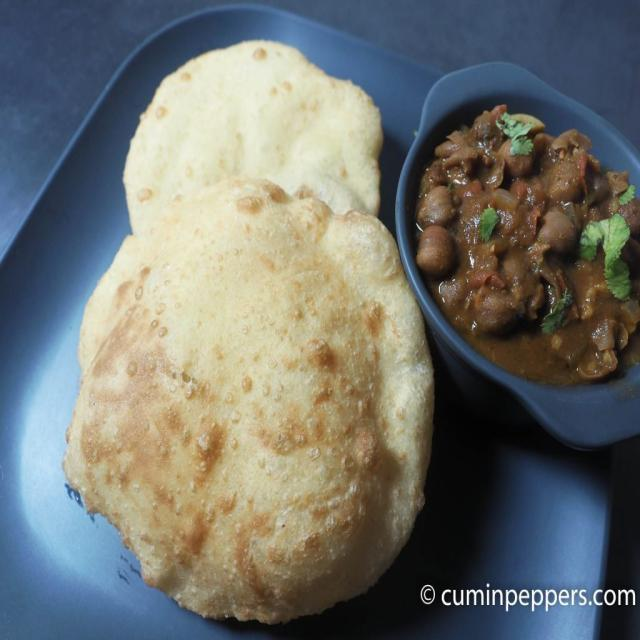chole: (422, 49, 634, 365)
puri: (51, 203, 426, 620)
